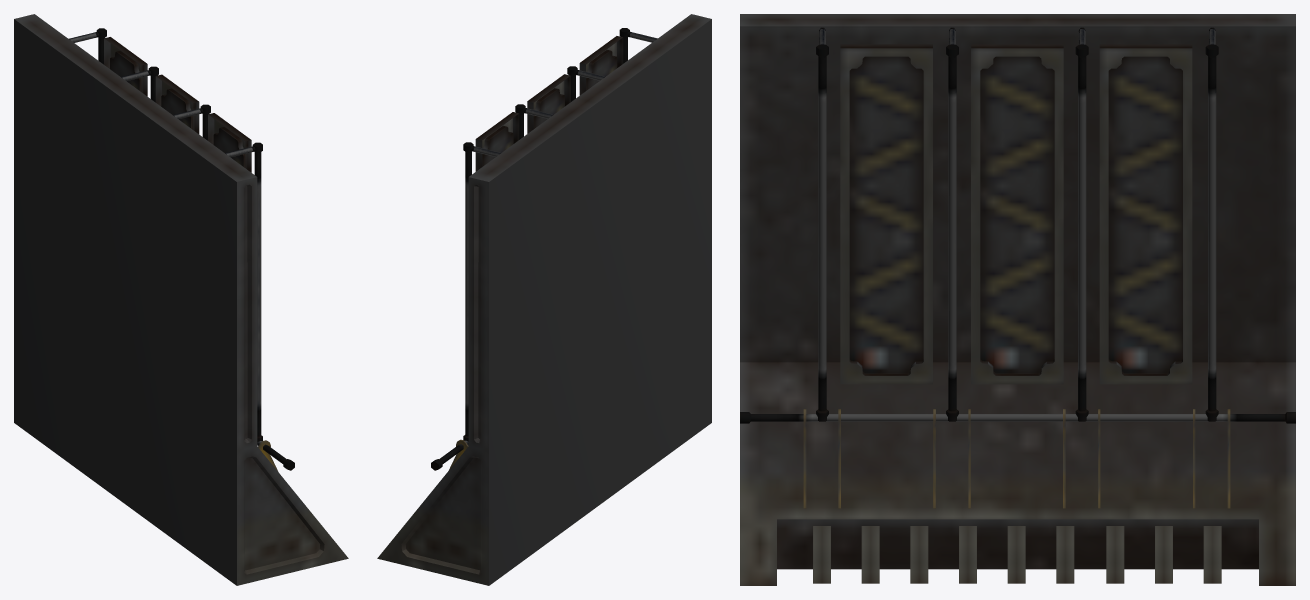
Rendered from Wall_05.FBX.
3 views of the same model, side by side, from view 1: azimuth 30°, elevation 25°; view 2: azimuth 150°, elevation 25°; view 3: azimuth 270°, elevation 25° (orthographic). The views are drawn at different scales.
Visible parts, largest first — view 1: Wall_05; view 2: Wall_05; view 3: Wall_05.
Boxes of the visible parts, x1,y1,x2,y2 form: Wall_05: (14, 14, 348, 585); Wall_05: (377, 14, 711, 585); Wall_05: (740, 14, 1295, 585).
Size of the model in its own units: 87.08 by 300 by 300.
